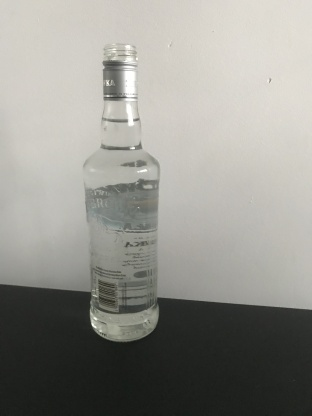nakretka: (100, 41, 139, 101)
